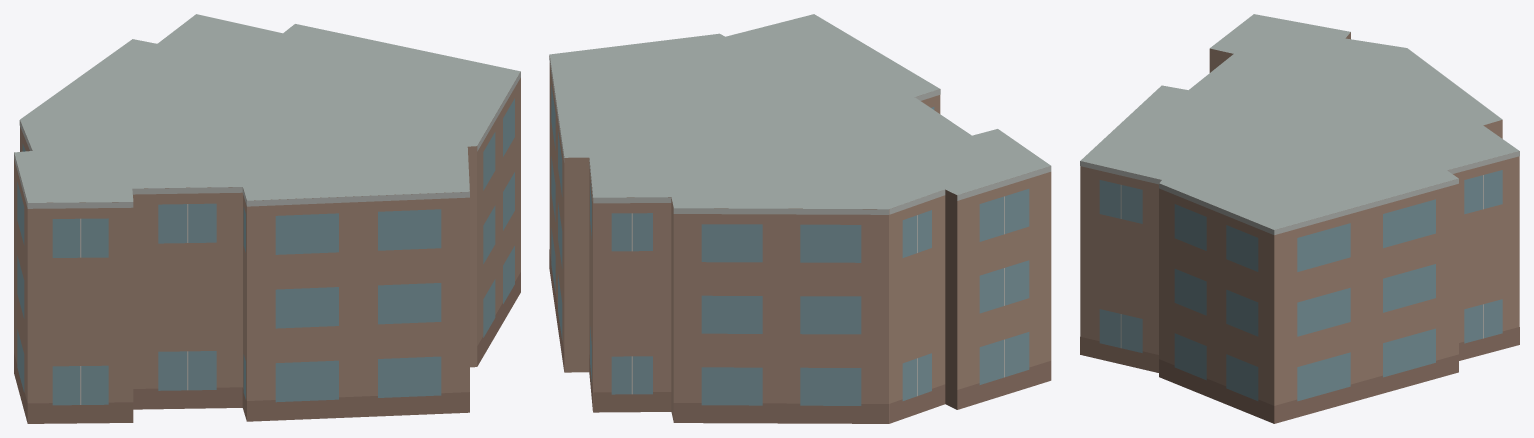
File: survey-upis-32891039.glb
3 renders of one model, left to right at view 1: azimuth 30°, elevation 25°; view 2: azimuth 150°, elevation 25°; view 3: azimuth 270°, elevation 25°, orthographic. The views are drawn at different scales.
Visible parts, largest first — view 1: survey-upis-32891039.tmp; view 2: survey-upis-32891039.tmp; view 3: survey-upis-32891039.tmp.
Part boxes in pixels (x1,y1,x2,y2): survey-upis-32891039.tmp: (14, 14, 520, 423); survey-upis-32891039.tmp: (549, 14, 1051, 423); survey-upis-32891039.tmp: (1080, 14, 1519, 423).
Bounding box in the file's own units: 21.88 × 9.15 × 18.82.
